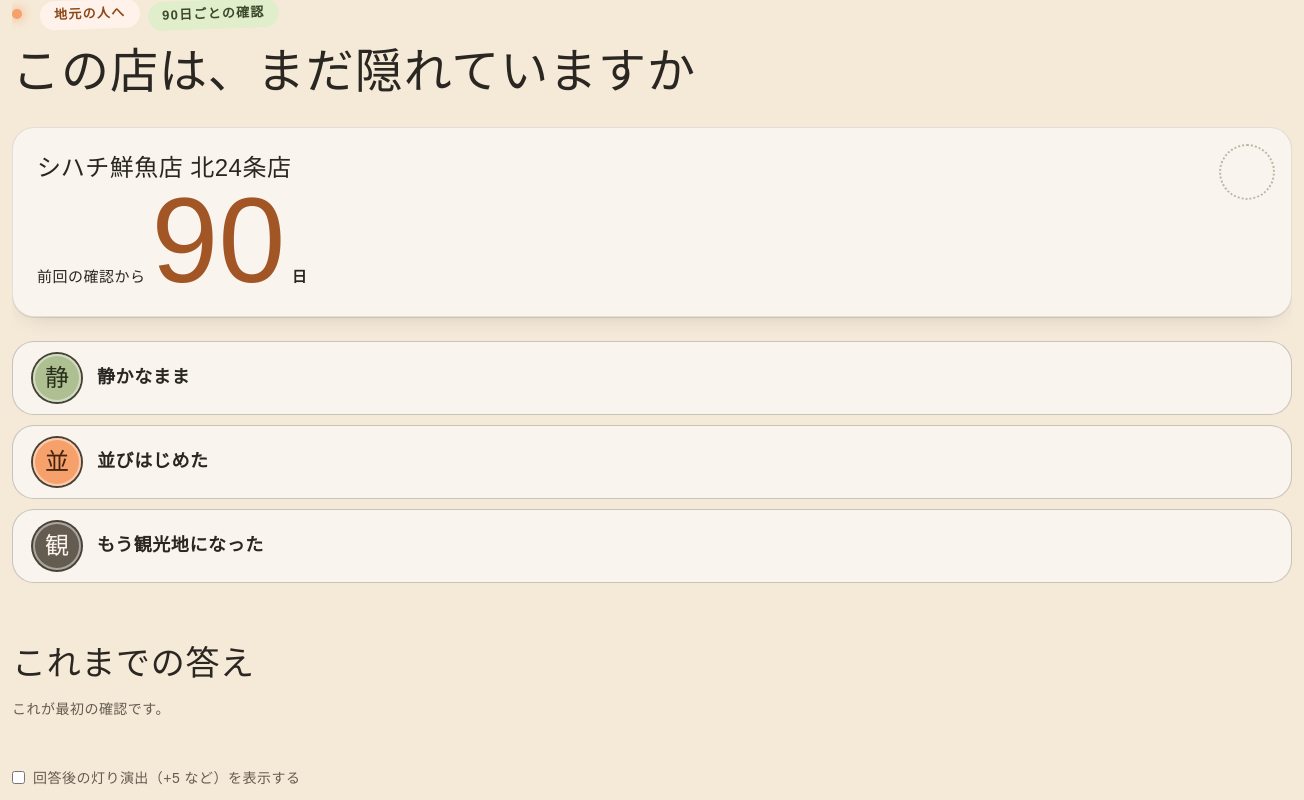
Test: VerifyForm › 演出 OFF: 紙のカードに「ありがとう！」と答えだけ。+N・番人の棒・花丸は出さない
The width and height of the screenshot is (1304, 800).
Click the button "静 静かなまま": (57, 378) [12,341,1292,415]
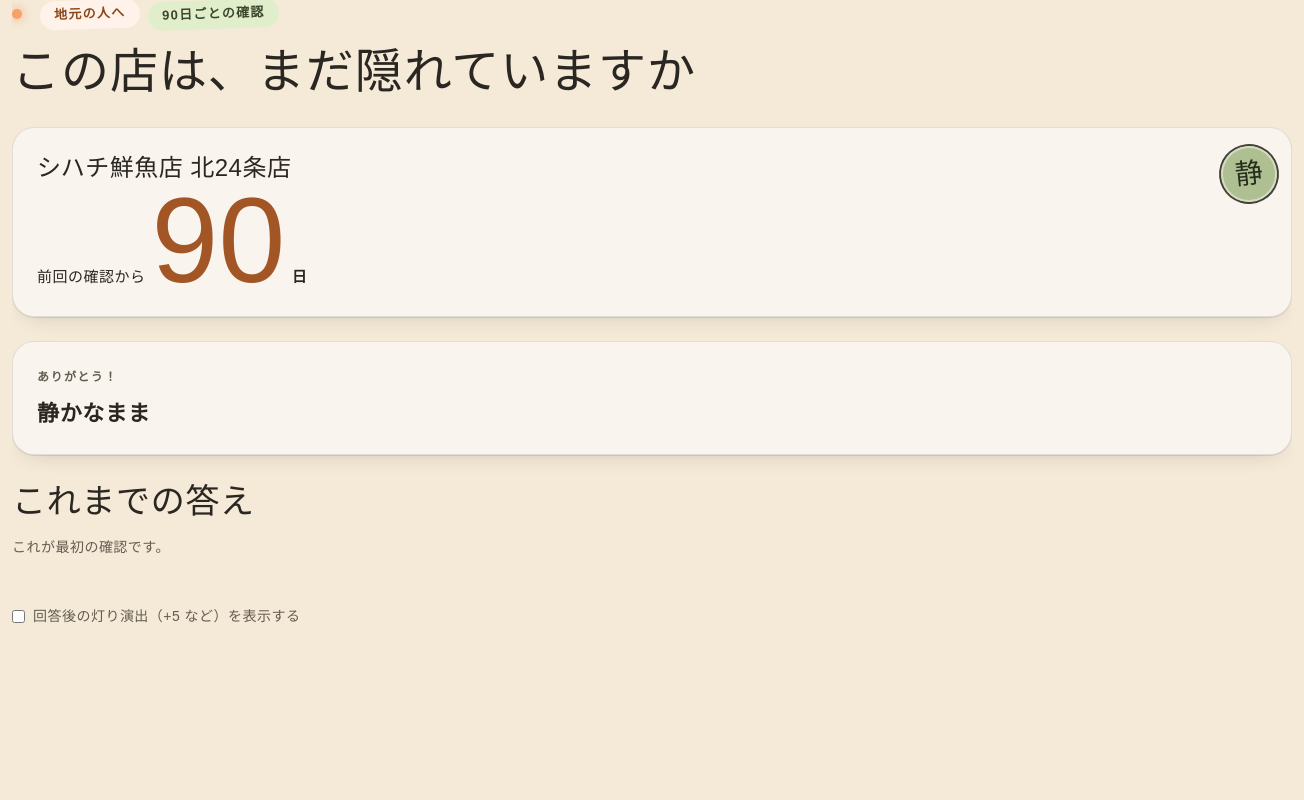
Check: the text "ありがとう！" is shown, box [37,370,118,384]
